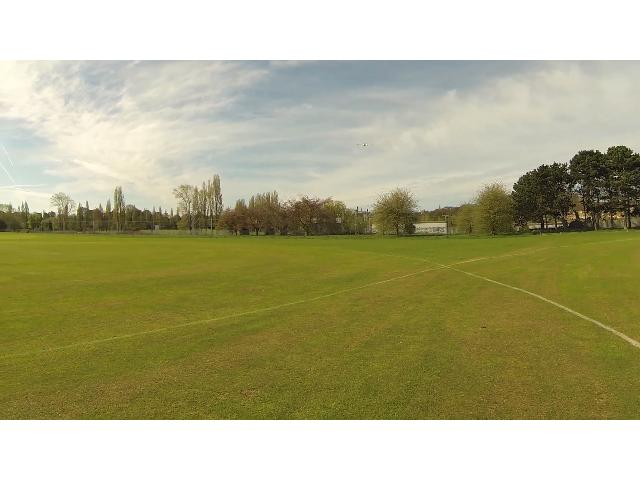Anti-Drone: (354, 138, 378, 150)
